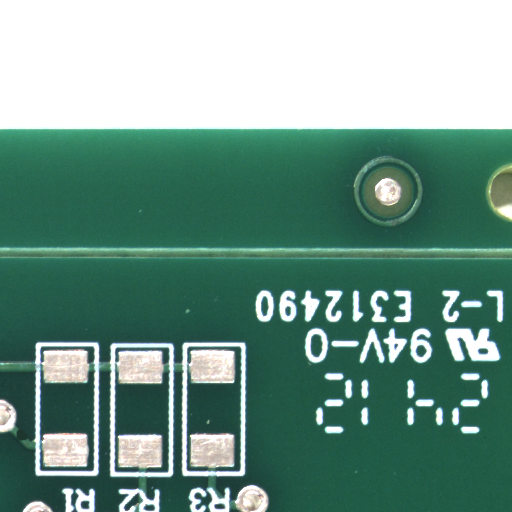Mouse_bite: (23, 435, 34, 446)
